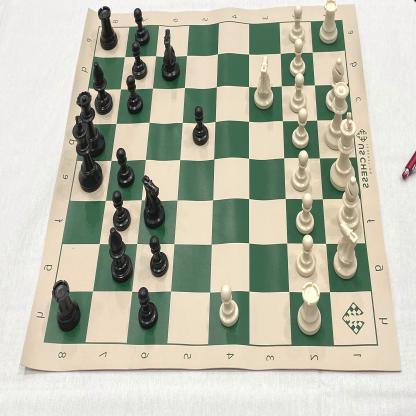black-bishop: (108, 230, 134, 282), (93, 61, 112, 115)
black-king: (71, 115, 103, 192)
black-knight: (142, 172, 167, 230), (161, 28, 181, 82)
black-pawn: (148, 233, 170, 278), (138, 286, 159, 328), (111, 189, 131, 231), (192, 104, 210, 147), (116, 146, 135, 186), (134, 5, 150, 46), (126, 76, 143, 114), (131, 42, 148, 80)
black-queen: (75, 90, 104, 157)
black-rook: (51, 276, 81, 332), (97, 4, 118, 51)
white-bishop: (337, 175, 360, 231), (325, 57, 346, 111)
white-king: (330, 110, 358, 191)
white-knight: (332, 217, 360, 280), (251, 52, 276, 114)
white-pawn: (294, 193, 318, 238), (296, 235, 319, 278), (288, 108, 312, 149), (217, 284, 239, 328), (290, 150, 313, 191), (286, 39, 308, 77), (289, 73, 310, 112), (289, 5, 305, 44)
white-queen: (325, 81, 350, 150)
white-rook: (297, 280, 323, 335), (319, 0, 340, 44)
